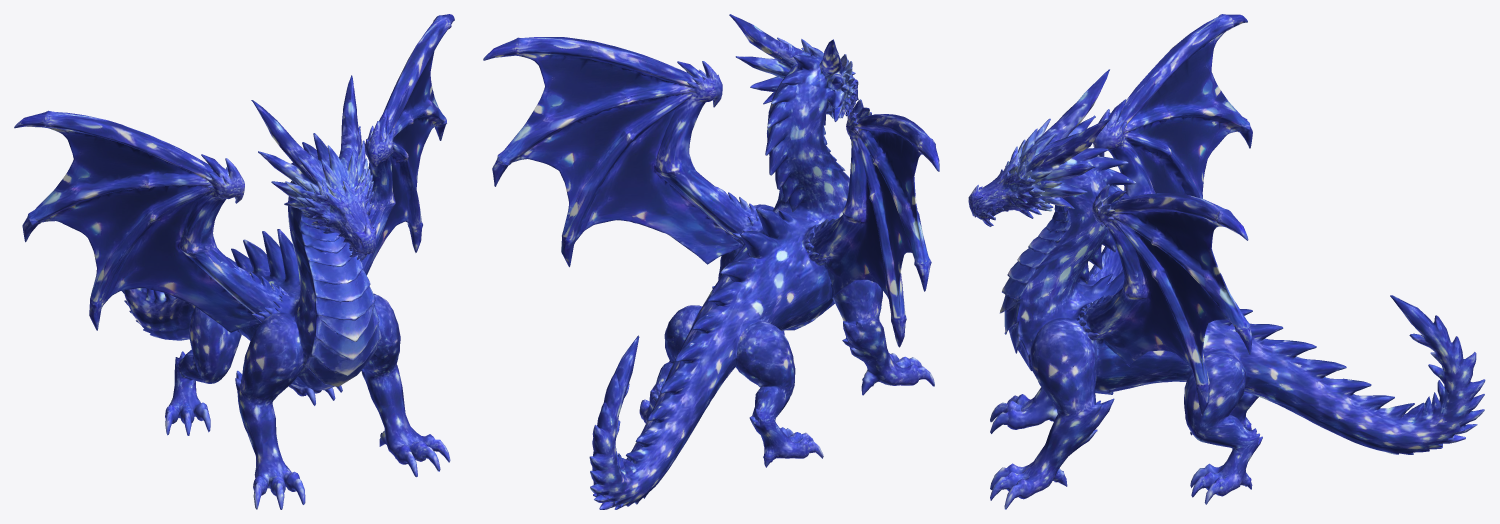
Rendered from dragon.glb.
The picture shows the model from 3 angles, left to right: view 1: azimuth 30°, elevation 25°; view 2: azimuth 150°, elevation 25°; view 3: azimuth 270°, elevation 25°; orthographic projection. The views are drawn at different scales.
Visible parts, largest first — view 1: tripo_node_af9d50be-b193-4af0-93e9-6bf4b3a400e9; view 2: tripo_node_af9d50be-b193-4af0-93e9-6bf4b3a400e9; view 3: tripo_node_af9d50be-b193-4af0-93e9-6bf4b3a400e9.
Part boxes in pixels (x1=…): tripo_node_af9d50be-b193-4af0-93e9-6bf4b3a400e9: x1=14, y1=14, x2=454, y2=509; tripo_node_af9d50be-b193-4af0-93e9-6bf4b3a400e9: x1=483, y1=14, x2=939, y2=509; tripo_node_af9d50be-b193-4af0-93e9-6bf4b3a400e9: x1=968, y1=14, x2=1485, y2=509.
Size of the model in its own units: 0.9822 by 0.7711 by 0.9801.
1 material, 1 textured.
